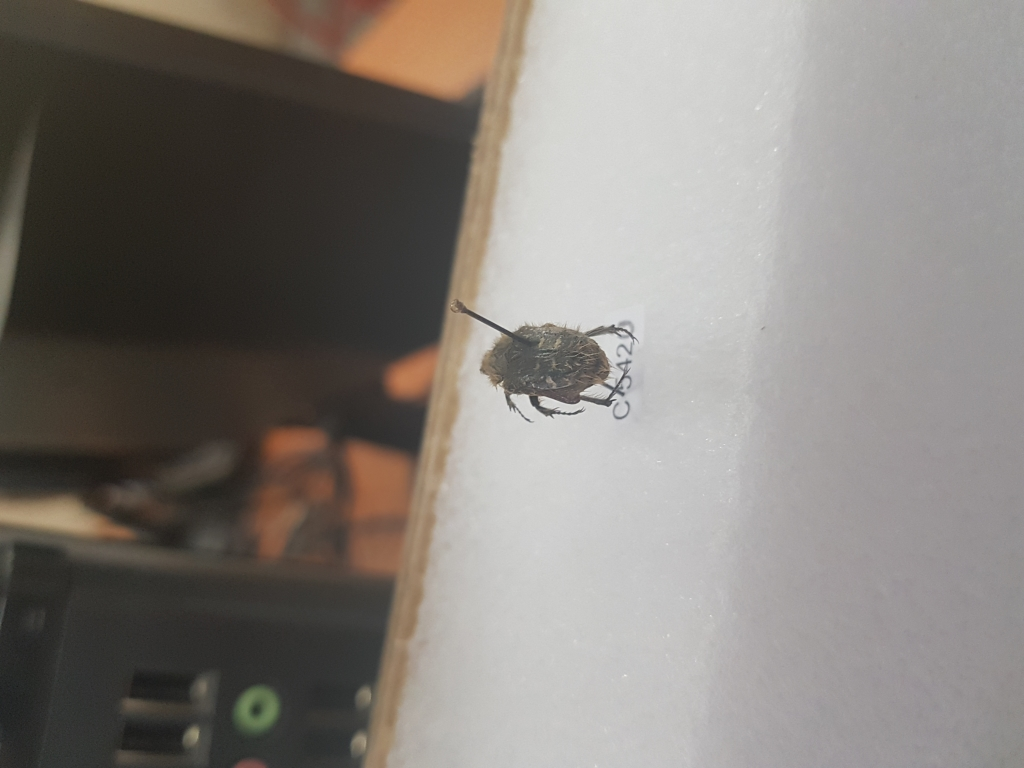Tropinota_hirta: (481, 311, 640, 426)
